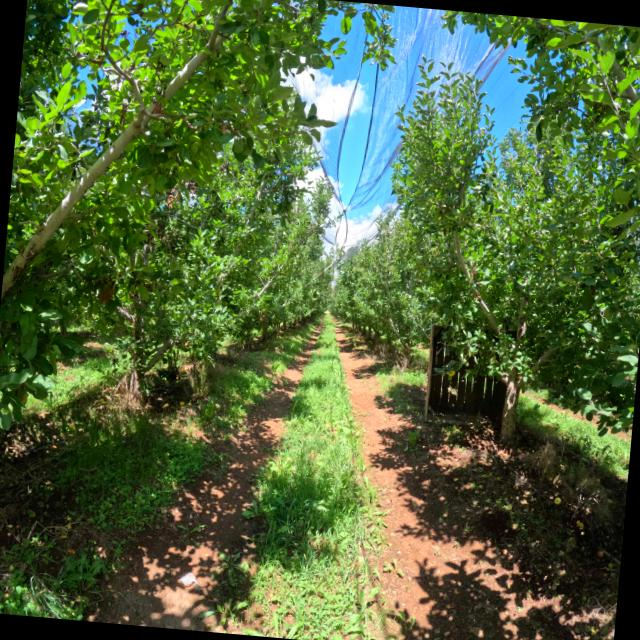-FireBlight-: (96, 281, 114, 304), (165, 186, 179, 209), (184, 179, 197, 194)
